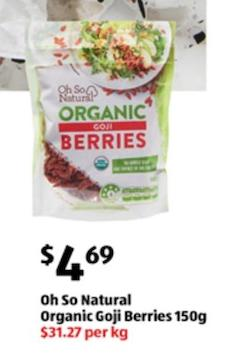description_block: (30, 291, 211, 327)
price_main: (24, 240, 130, 291)
product_image_block: (16, 19, 188, 228)
unit_price_block: (25, 321, 135, 343)
